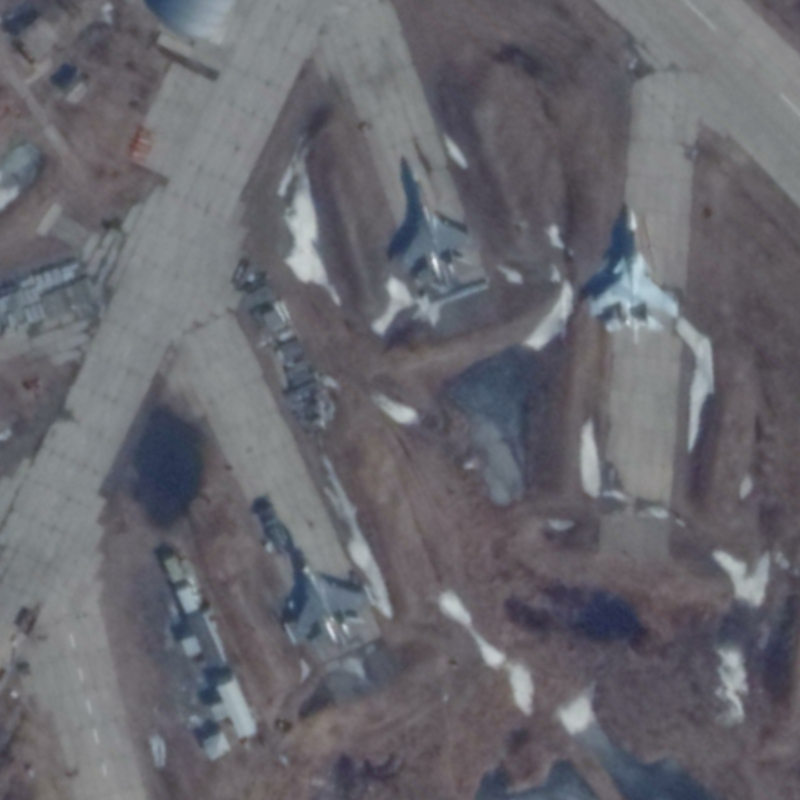A1: (279, 544, 378, 650), (398, 165, 473, 285)
A19: (588, 205, 682, 345)
